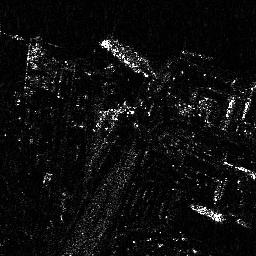ship: (99, 40, 147, 75)
